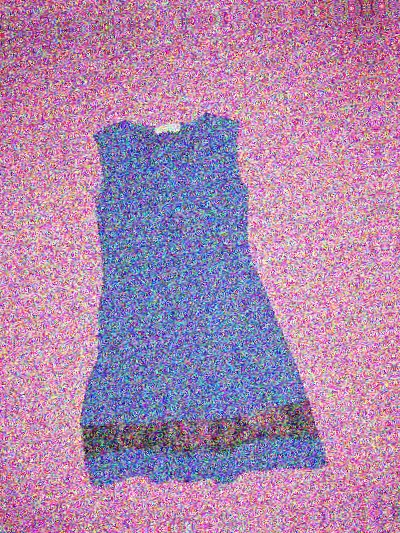Dress: (46, 78, 360, 505)
